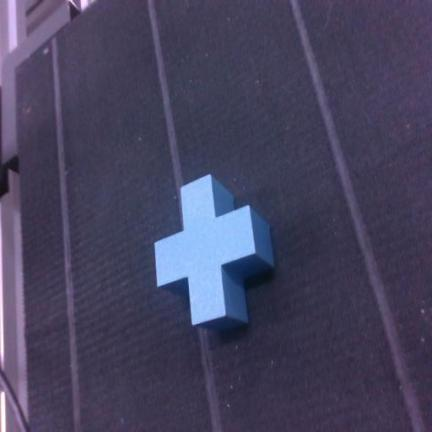cross: (156, 176, 273, 329)
